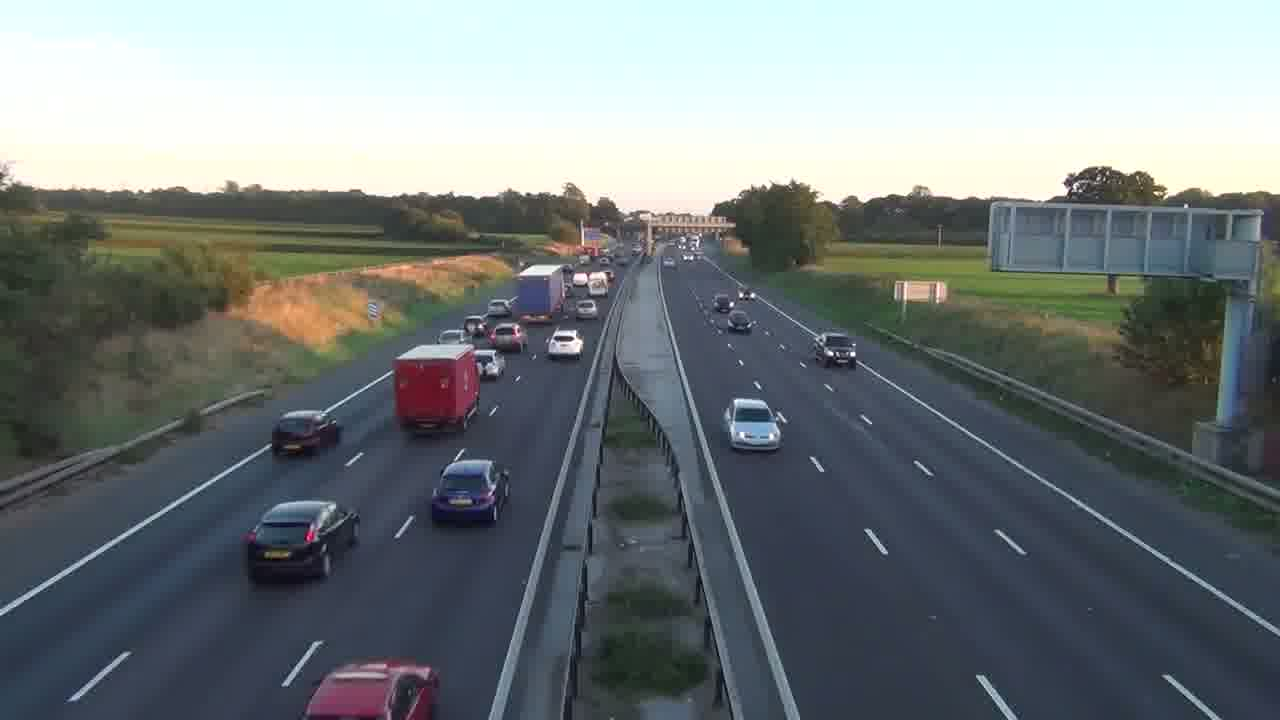car: (242, 498, 361, 584), (302, 657, 441, 719), (430, 456, 512, 524), (722, 397, 783, 452), (270, 410, 341, 456), (546, 328, 584, 359), (727, 309, 753, 334)
